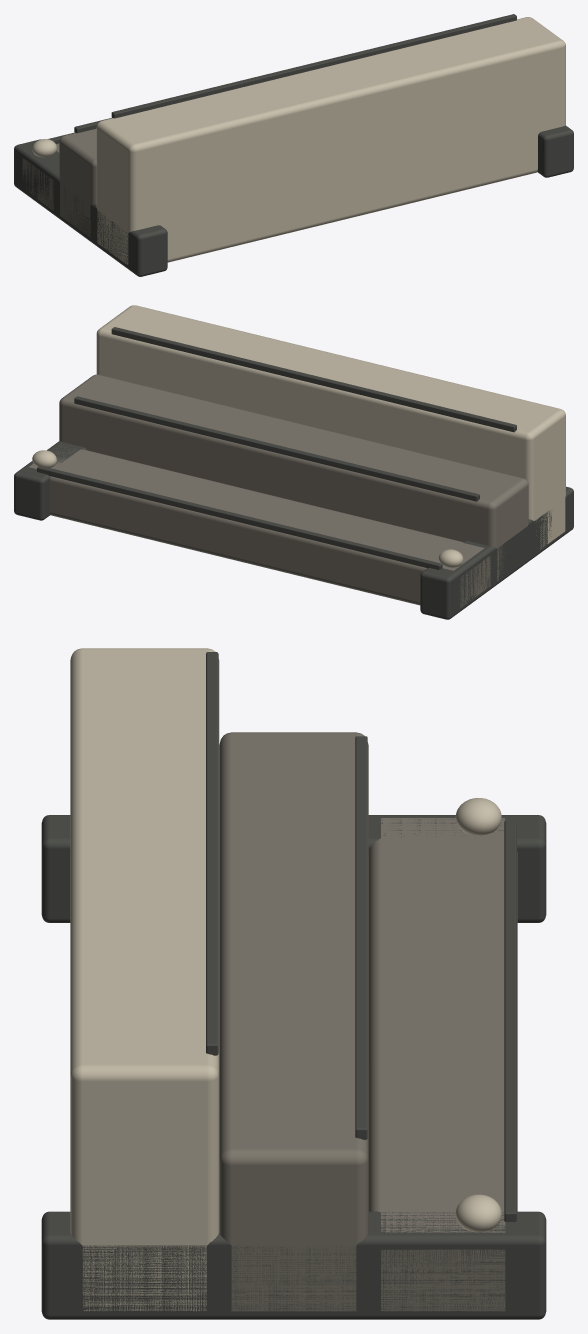
Rendered from detail_stone_steps.glb.
3 renders of one model, top to bottom at view 1: azimuth 30°, elevation 25°; view 2: azimuth 150°, elevation 25°; view 3: azimuth 270°, elevation 25°, orthographic. The views are drawn at different scales.
Visible parts, largest first — view 1: wood, stone; view 2: stone, wood; view 3: stone, wood.
Boxes of the visible parts, x1,y1,x2,y2 form: wood: (32,17,565,264); stone: (14,14,573,276); stone: (14,327,573,619); wood: (32,305,565,567); stone: (41,652,546,1319); wood: (70,648,501,1311).
Size of the model in its own units: 2.8 by 0.8 by 1.4.
